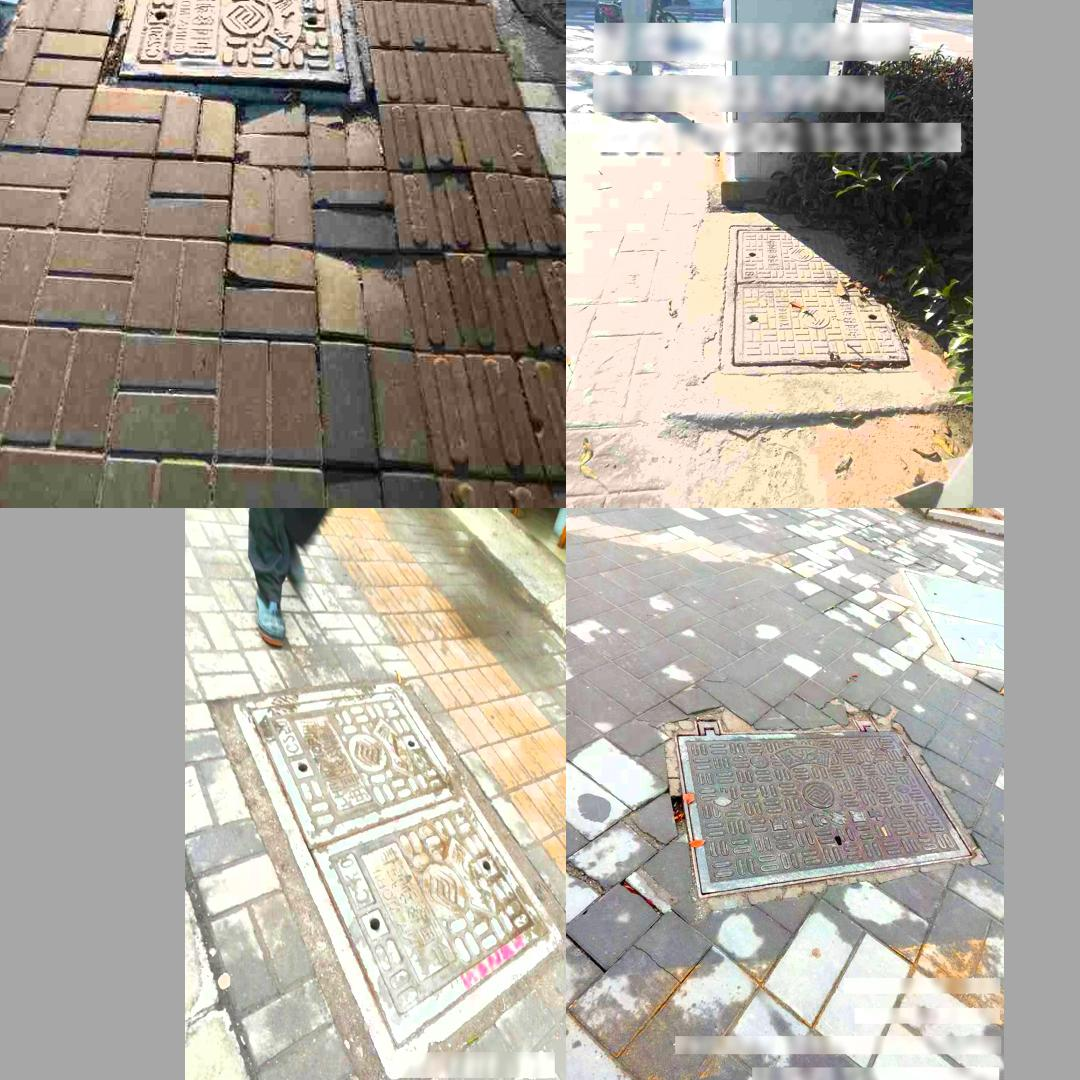good: (233, 682, 562, 1080), (675, 721, 974, 897), (719, 225, 919, 372), (104, 0, 367, 99), (902, 570, 1003, 669)
